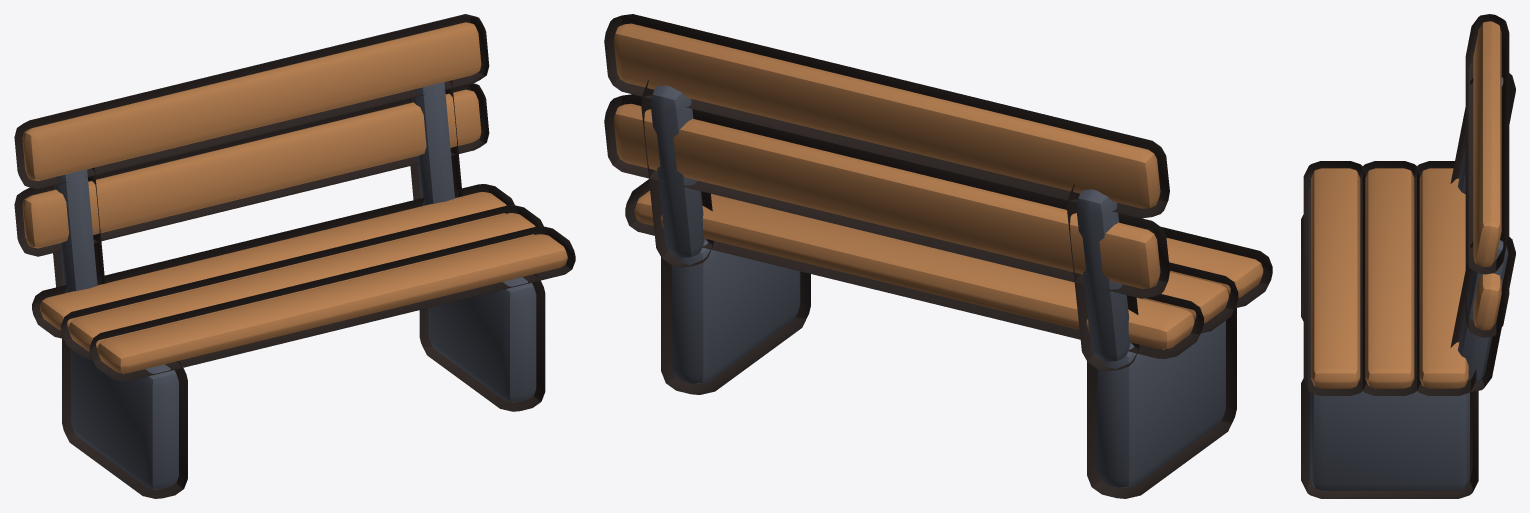
The model's file is Bench.fbx.
3 renders of one model, left to right at view 1: azimuth 30°, elevation 25°; view 2: azimuth 150°, elevation 25°; view 3: azimuth 270°, elevation 25°, orthographic. The views are drawn at different scales.
Parts seen in each view (by area): view 1: PR_Bench_Wood, PR_Bench_Outline, PR_Bench_Metal; view 2: PR_Bench_Wood, PR_Bench_Outline, PR_Bench_Metal; view 3: PR_Bench_Wood, PR_Bench_Outline, PR_Bench_Metal.
Part boxes in pixels (<box>): PR_Bench_Wood: <box>22,22,567,373</box>; PR_Bench_Outline: <box>14,14,575,498</box>; PR_Bench_Metal: <box>54,82,536,489</box>; PR_Bench_Wood: <box>613,23,1263,349</box>; PR_Bench_Outline: <box>604,14,1272,498</box>; PR_Bench_Metal: <box>650,85,1225,487</box>; PR_Bench_Wood: <box>1311,21,1501,388</box>; PR_Bench_Outline: <box>1301,14,1515,498</box>; PR_Bench_Metal: <box>1310,77,1508,490</box>.
Bounding box in the file's own units: 1.96 × 1.28 × 0.8314.
